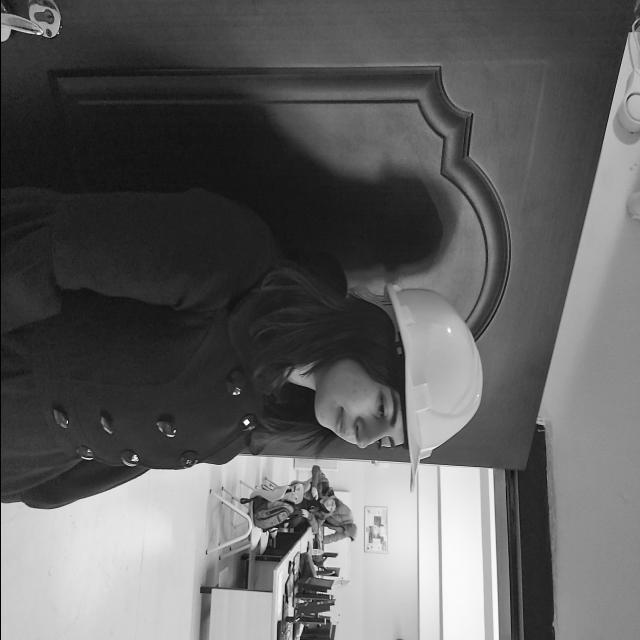safety_helmet: (381, 284, 481, 489)
